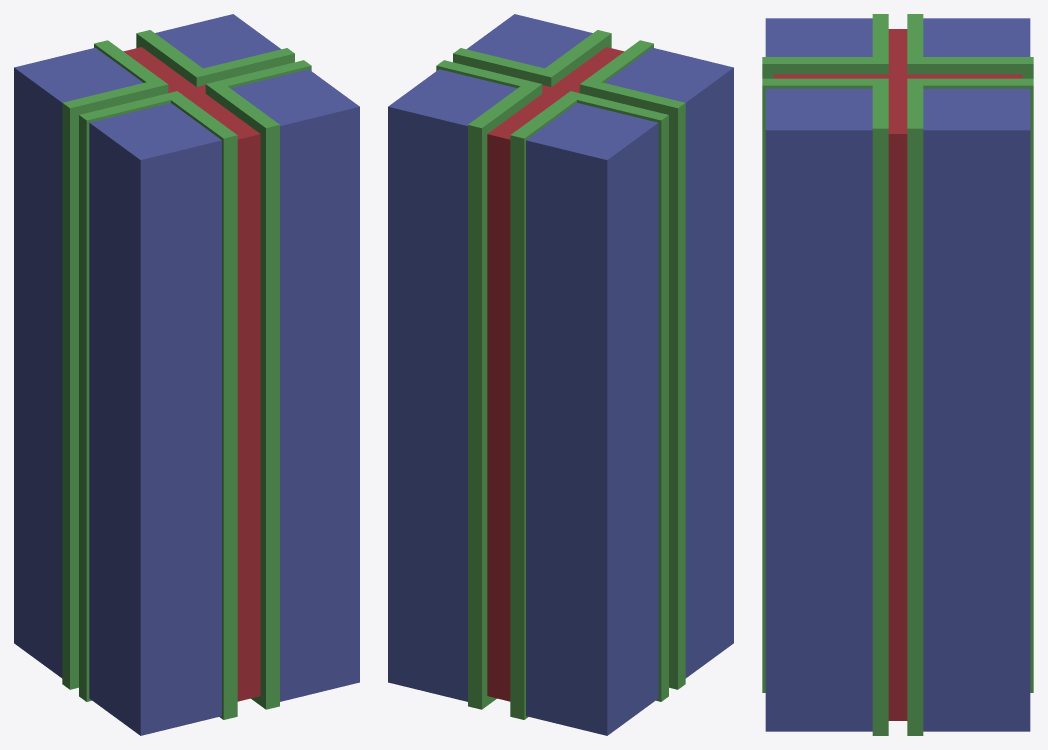
The model's file is SM_MovingPlatform_02.fbx.
3 views of the same model, side by side, from view 1: azimuth 30°, elevation 25°; view 2: azimuth 150°, elevation 25°; view 3: azimuth 270°, elevation 25° (orthographic). The views are drawn at different scales.
Visible parts, largest first — view 1: SM_MovingPlatform_02; view 2: SM_MovingPlatform_02; view 3: SM_MovingPlatform_02.
Boxes of the visible parts, left/top/right/bottom form: SM_MovingPlatform_02: left=14, top=14, right=359, bottom=735; SM_MovingPlatform_02: left=388, top=14, right=733, bottom=735; SM_MovingPlatform_02: left=762, top=14, right=1033, bottom=735.
Bounding box in the file's own units: 205 × 507 × 205.
